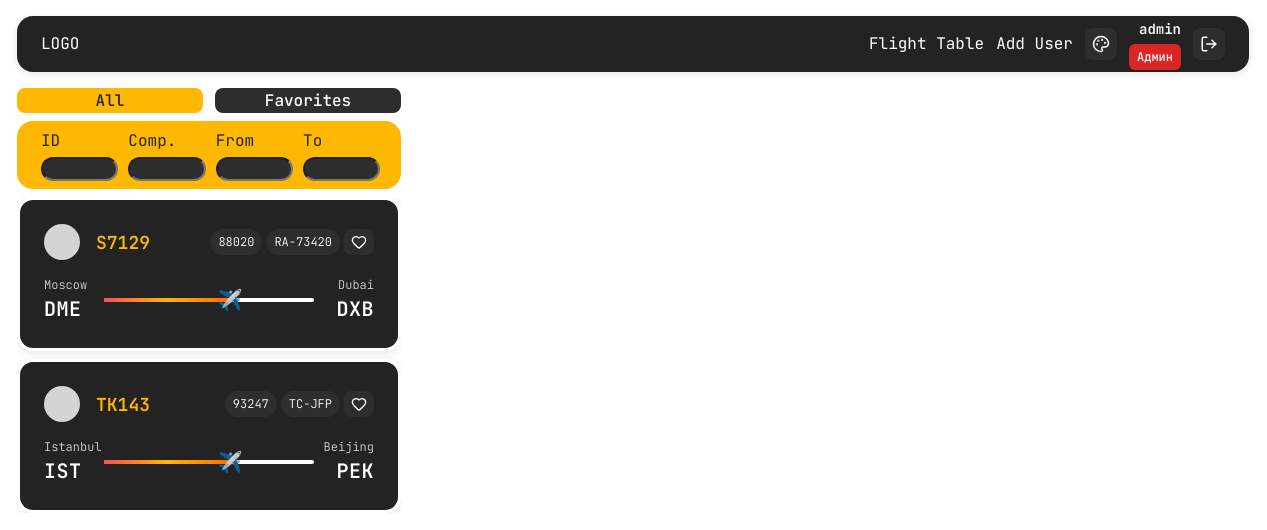
it: фильтр по авиакомпании работает
The width and height of the screenshot is (1267, 530).
Expected: the text "Moscow" is shown, [44,276,87,294]
Вводим фильтр по авиакомпании
Type "Turkish" into the field labelled "Comp." at (167, 169), box [128,157,206,181]
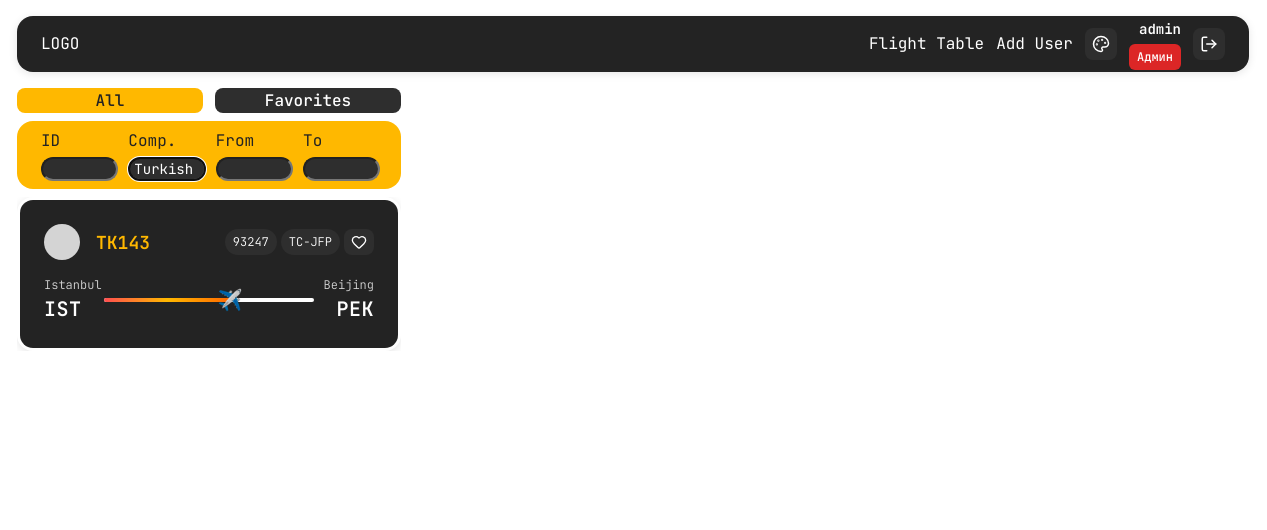
Expected: the text "Istanbul" is shown, [44,276,102,294]
Now the text "Moscow" is gone
